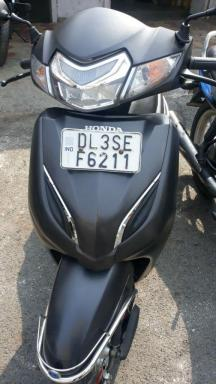doublelinenumberplate: (57, 127, 144, 172)
